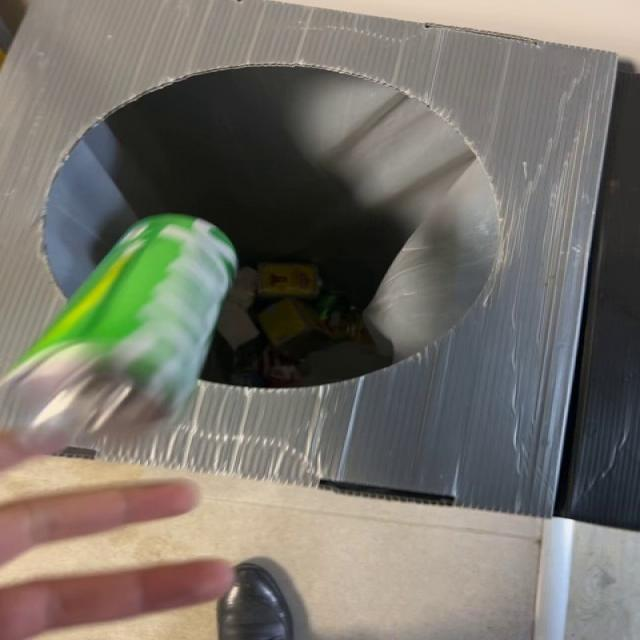Bin: (1, 0, 619, 516)
Metal: (3, 215, 237, 452)
